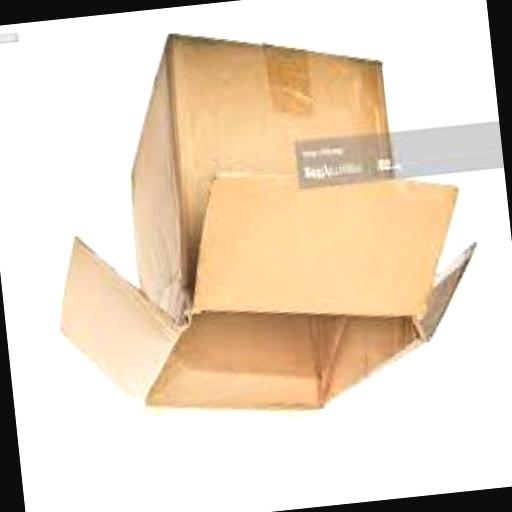cardboard: (28, 10, 490, 441)
